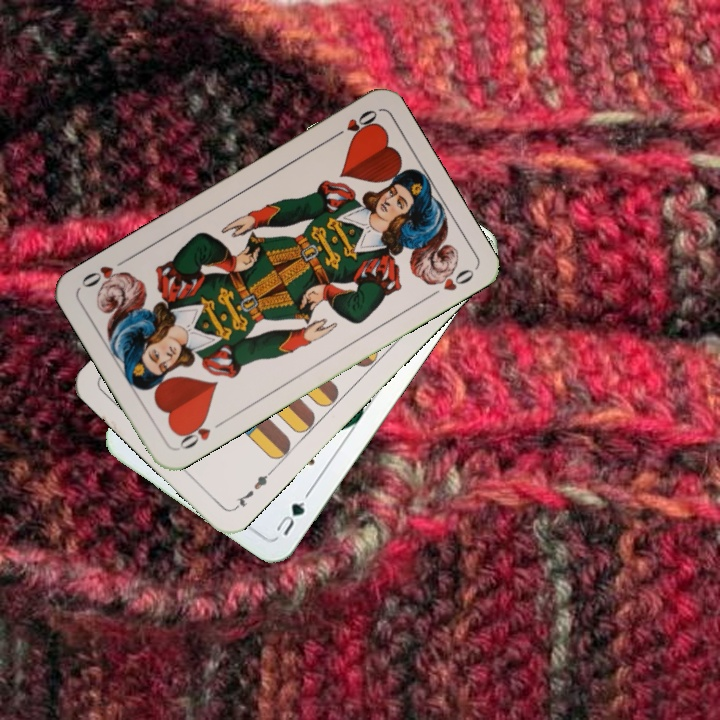E7: (230, 466, 276, 513)
GU: (271, 488, 313, 539)
HO: (174, 414, 227, 453), (326, 105, 380, 143)
